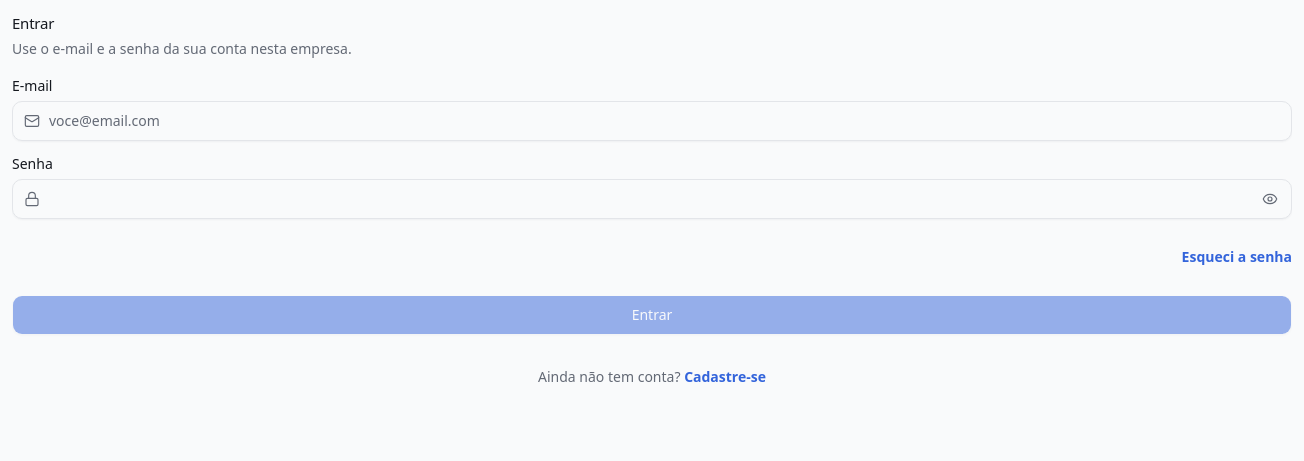
TenantPortalLoginPage › maps a known English API login error to Portuguese
This screenshot has width=1304, height=461.
Type "ana@club.test" into the field labelled "E-mail". click: (652, 120)
box: [12,100,1292,140]
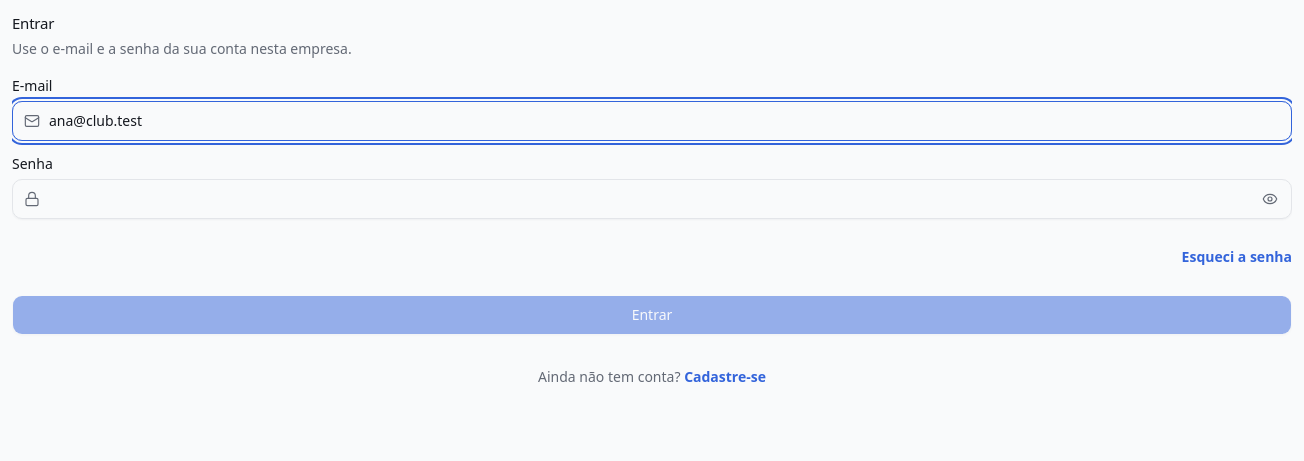
Type "wrong-password" into the password field labelled "Senha". click: (652, 198)
box: [12,178,1292,218]
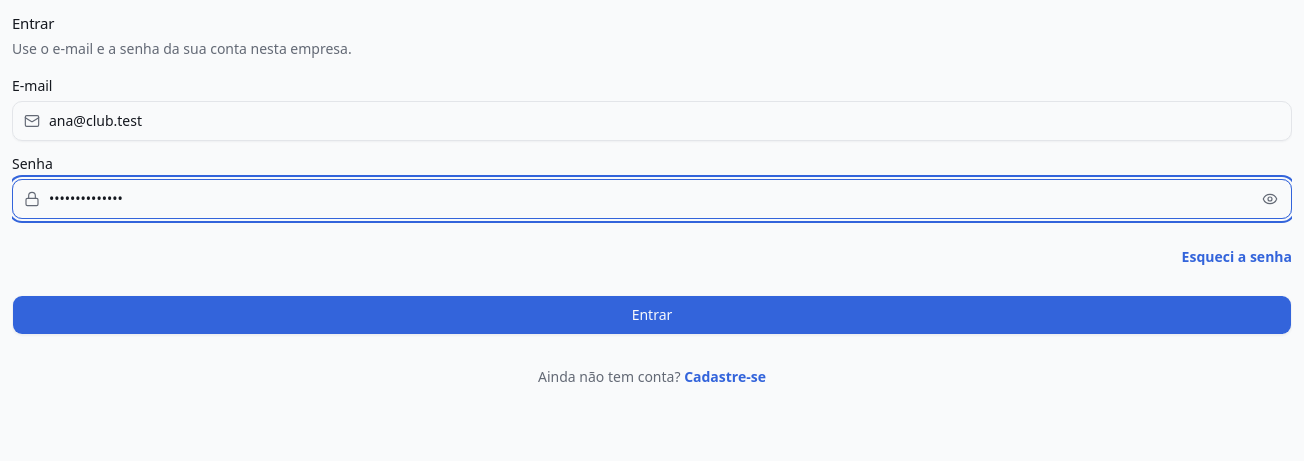
Click the button "Entrar". click: (652, 314)
box: [12,294,1292,334]
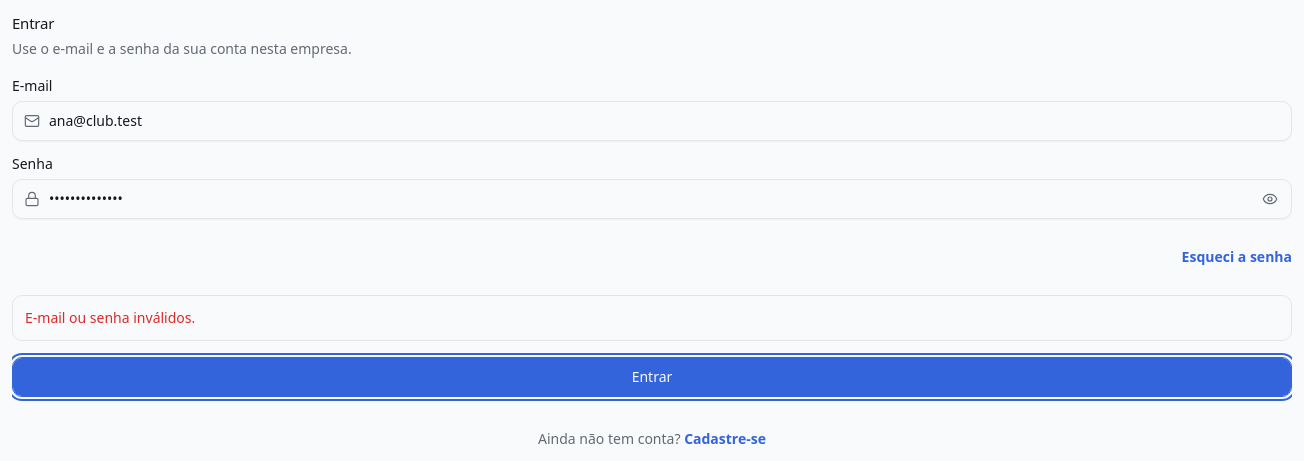
Now the button "Entrar" is enabled, box [12,356,1292,396]
Now the message reads "E-mail ou senha inválidos.", box [25,308,195,326]
